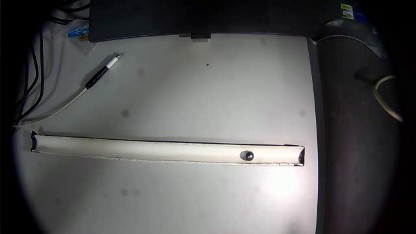gangzhu: (245, 150, 251, 161)
